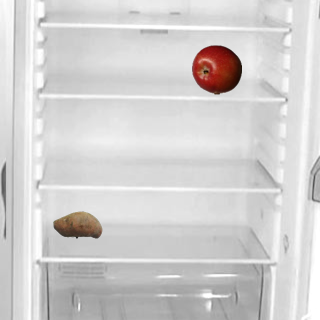Apple Braeburn: (191, 44, 241, 94)
Potato Sweet: (52, 199, 102, 249)
